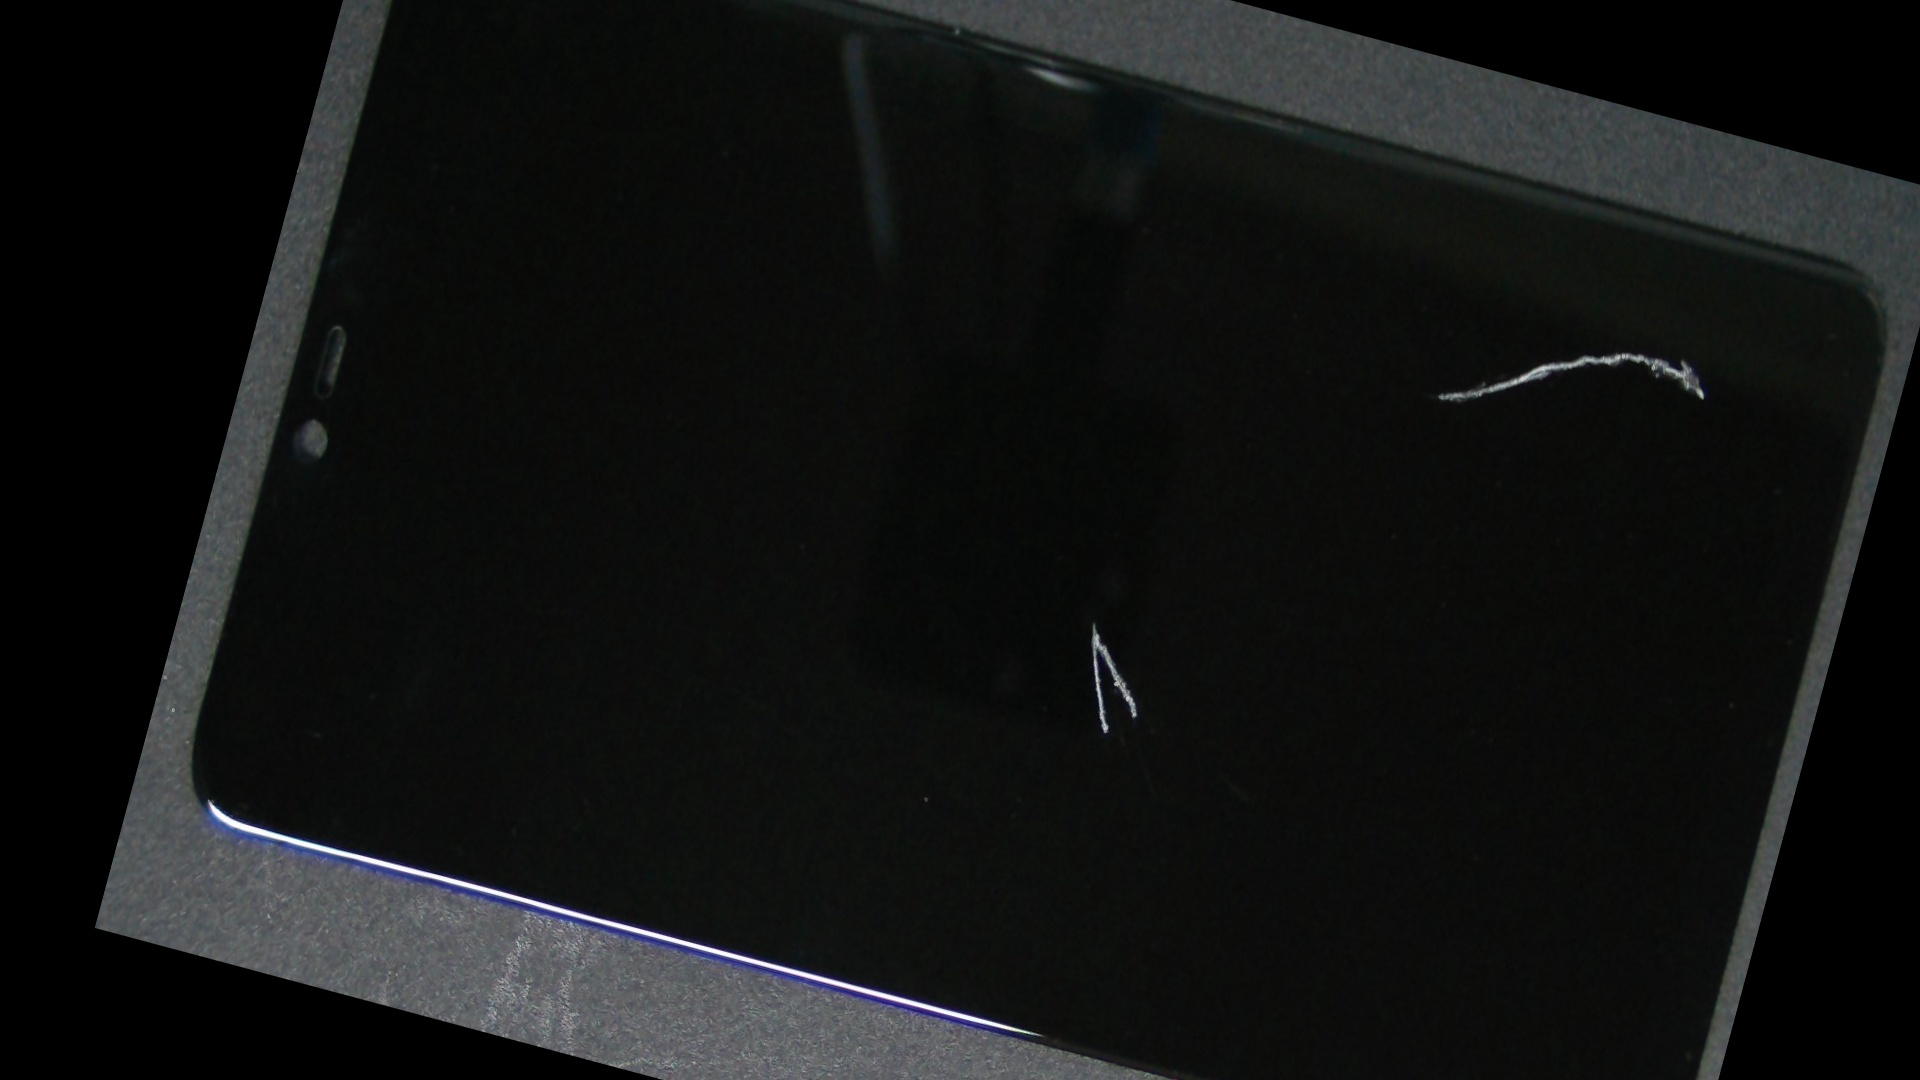oil: (583, 199, 1604, 1044), (984, 69, 1920, 526)
